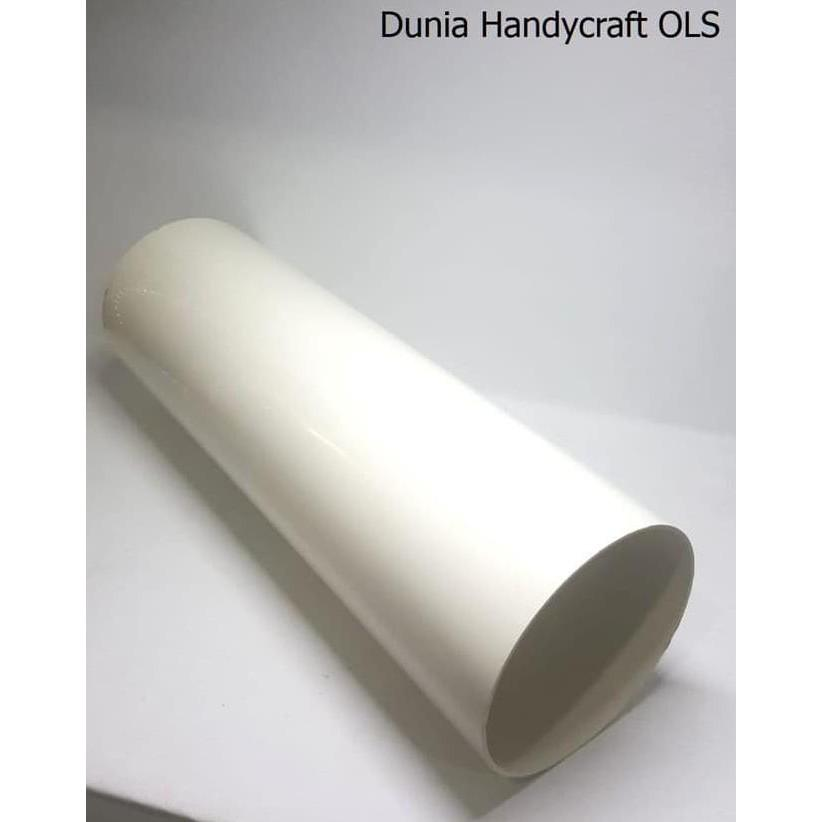PVC: (99, 220, 694, 780)
